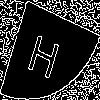H: (25, 25, 65, 80)
